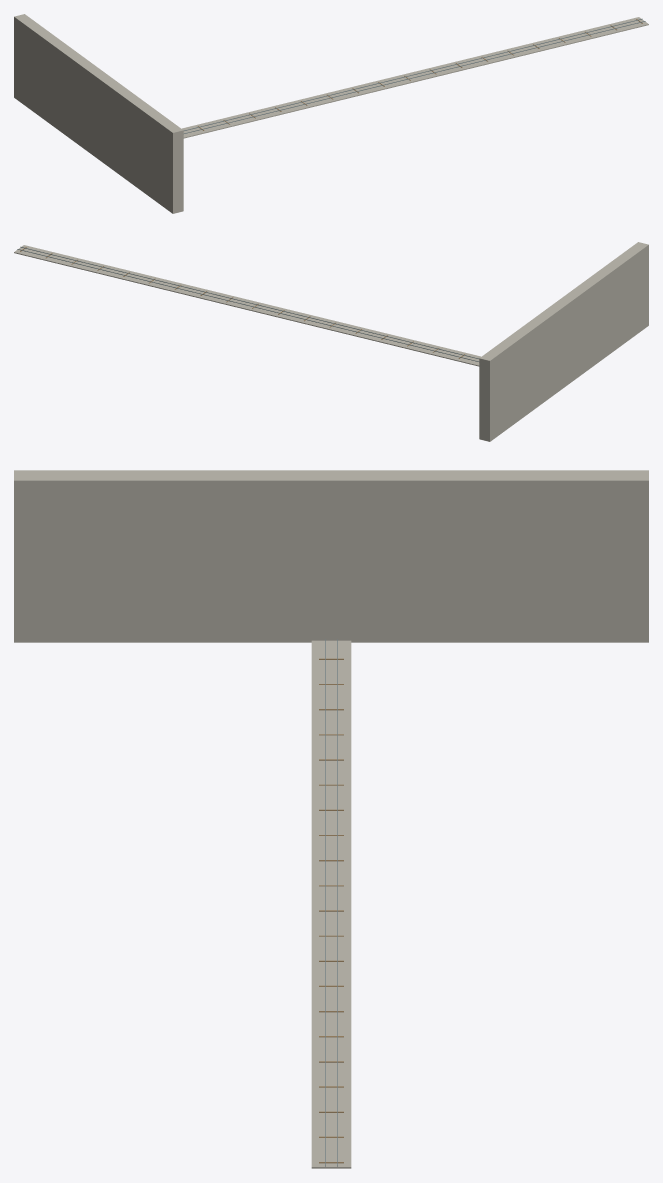
Rendered from valley-14-2.glb.
3 views of the same model, one above another, from view 1: azimuth 30°, elevation 25°; view 2: azimuth 150°, elevation 25°; view 3: azimuth 270°, elevation 25° (orthographic). The views are drawn at different scales.
Parts seen in each view (by area): view 1: valley-14-2; view 2: valley-14-2; view 3: valley-14-2.
Part boxes in pixels (<box>): valley-14-2: <box>14,14,648,213</box>; valley-14-2: <box>14,242,648,441</box>; valley-14-2: <box>14,470,648,1168</box>.
Bounding box in the file's own units: 256 × 36 × 128.
